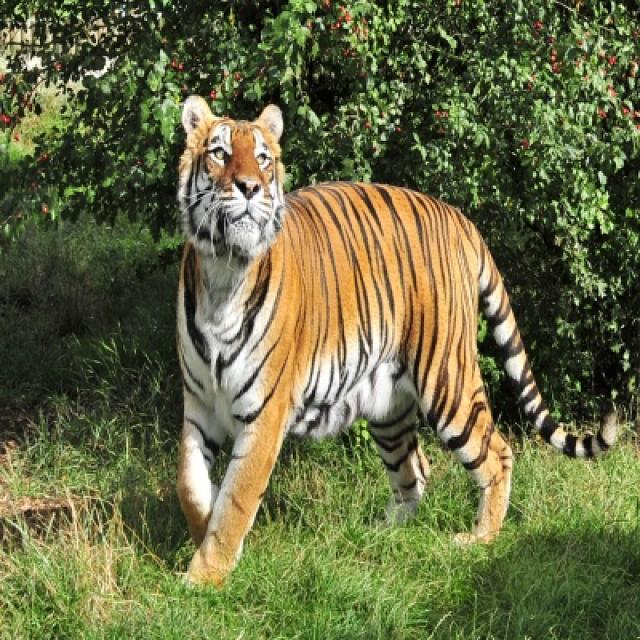Tiger: (172, 101, 618, 585)
